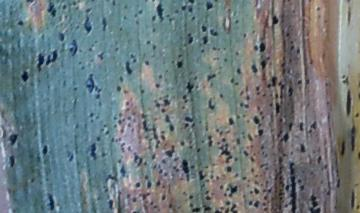tarspot: (285, 158, 297, 213), (85, 70, 103, 95), (67, 37, 82, 58), (45, 191, 58, 213), (307, 193, 321, 213), (80, 15, 94, 34), (44, 1, 58, 19), (87, 141, 98, 162), (7, 131, 20, 148), (180, 157, 191, 177), (35, 52, 46, 71), (155, 5, 166, 24), (98, 16, 109, 34), (18, 69, 32, 83), (219, 141, 232, 156), (46, 50, 58, 66), (272, 99, 284, 115), (225, 113, 237, 129), (54, 29, 66, 44), (123, 59, 134, 75), (202, 1, 217, 12), (269, 12, 280, 27), (185, 79, 196, 94), (280, 130, 291, 145), (266, 75, 277, 90), (133, 153, 144, 168), (228, 182, 238, 198), (228, 199, 239, 213), (237, 100, 251, 111), (7, 152, 16, 169), (187, 32, 196, 48), (206, 134, 215, 150), (165, 145, 176, 158), (308, 118, 319, 131), (259, 38, 266, 58), (255, 126, 265, 140), (198, 168, 208, 182), (144, 178, 153, 193), (39, 144, 50, 156), (174, 58, 185, 70), (259, 59, 271, 70), (314, 153, 325, 165), (205, 72, 218, 82), (206, 98, 216, 111), (249, 62, 258, 76), (252, 113, 261, 127), (107, 198, 116, 212), (151, 81, 162, 92), (164, 111, 172, 126), (209, 28, 221, 38), (298, 141, 306, 155), (15, 18, 25, 29), (198, 23, 209, 33), (162, 97, 172, 108), (185, 193, 197, 202), (201, 32, 208, 47), (143, 56, 151, 69), (298, 118, 304, 135), (133, 180, 143, 190), (158, 192, 168, 202), (114, 84, 125, 93), (176, 139, 187, 148), (225, 163, 232, 177), (183, 115, 195, 123), (287, 84, 293, 100), (166, 126, 178, 134), (250, 44, 259, 54), (191, 205, 202, 213), (153, 179, 163, 187), (150, 151, 158, 161), (252, 83, 262, 91), (252, 185, 259, 196), (178, 3, 187, 11), (234, 68, 243, 76), (253, 200, 260, 210), (295, 77, 302, 87), (247, 197, 253, 208)
